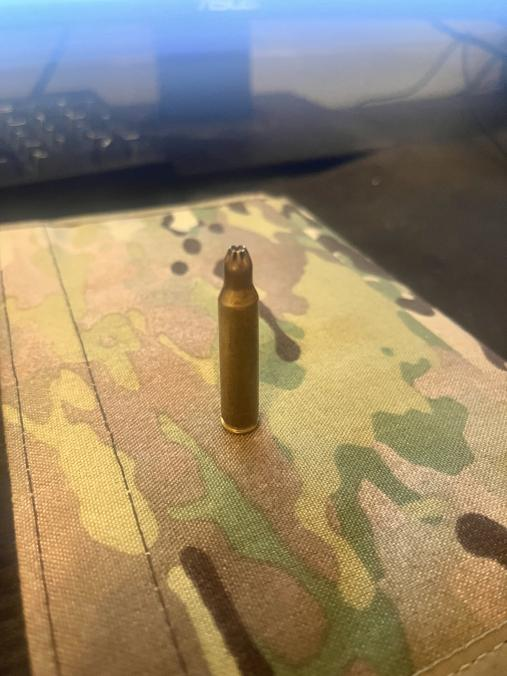556-unfired-blank: (216, 244, 262, 434)
